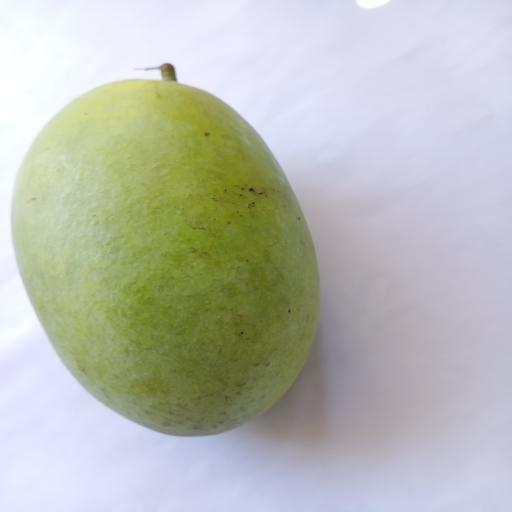mango-unripe: (0, 46, 344, 450)
